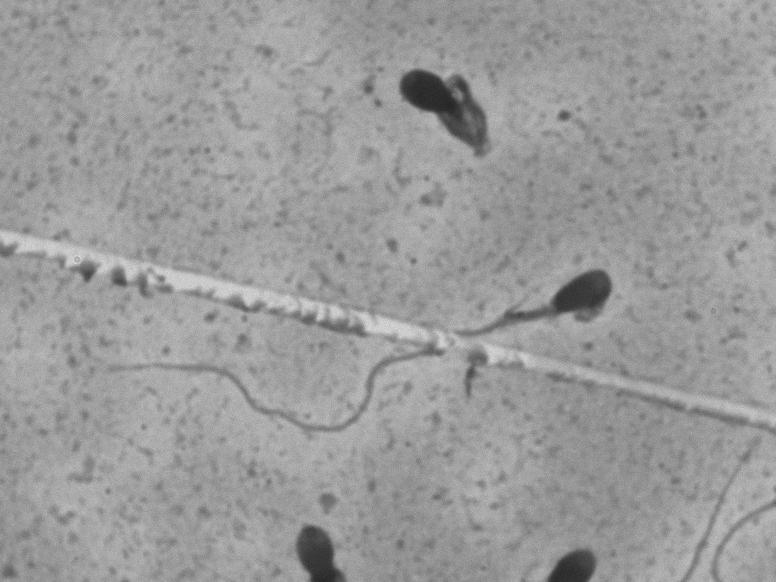Abnormal: (96, 219, 634, 431), (383, 39, 530, 175)
